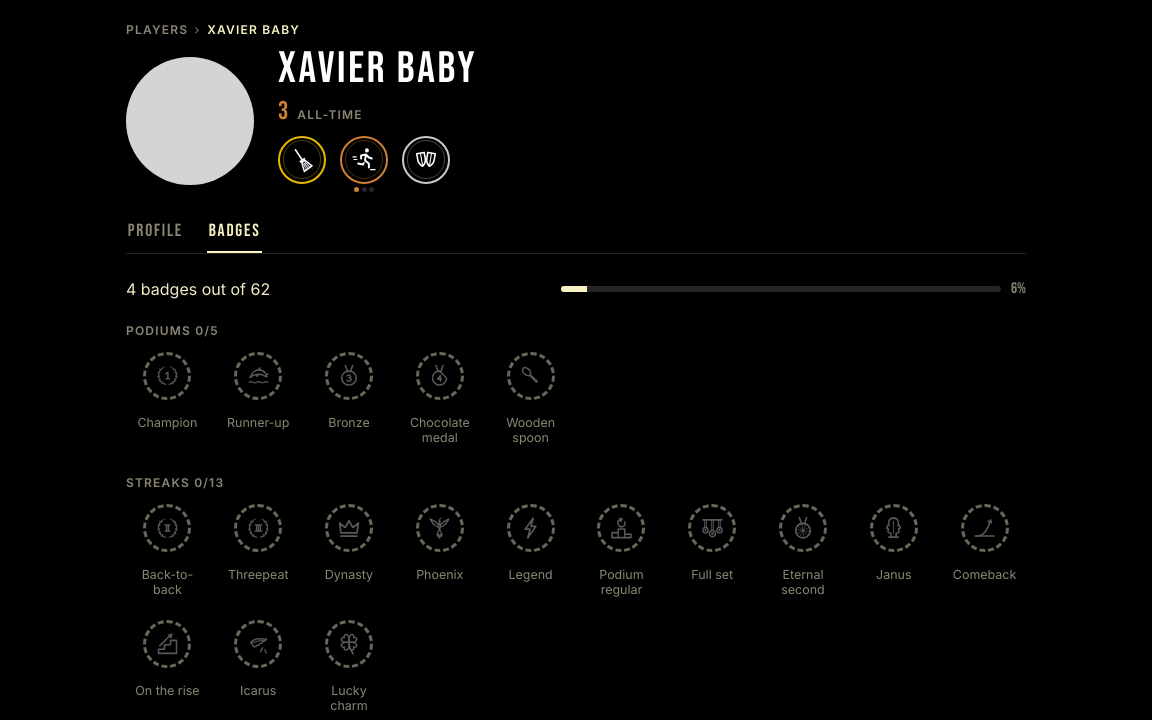
Test: player profile page › the sheet's progress › shows a locked slot's bar, its best run and an out-of-reach line
Click the button "Podium regular" at point(621, 551), box 580,500 -> 663,602
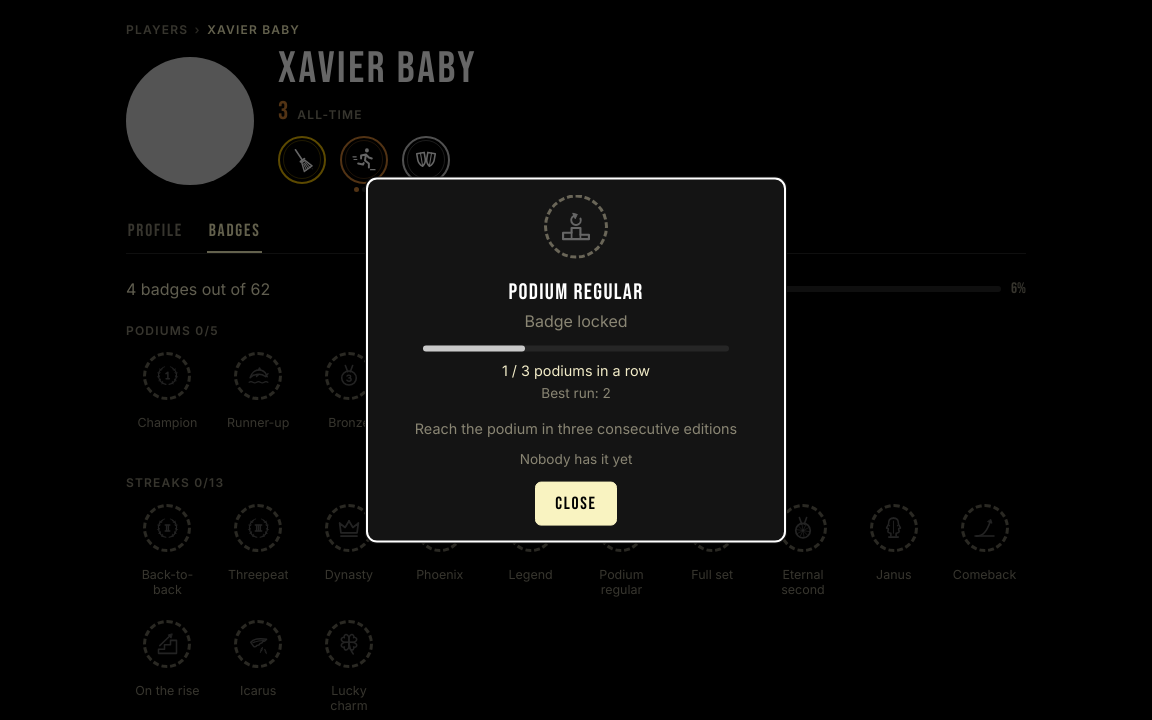
Expected: the text "1 / 3 podiums in a row" is shown, 502,362 -> 650,379
Expected: the dialog "Podium regular" shows "Best run: 2", 541,384 -> 611,400
Click the button "Close" at point(576, 503), box 535,481 -> 617,525
(page scrolled)
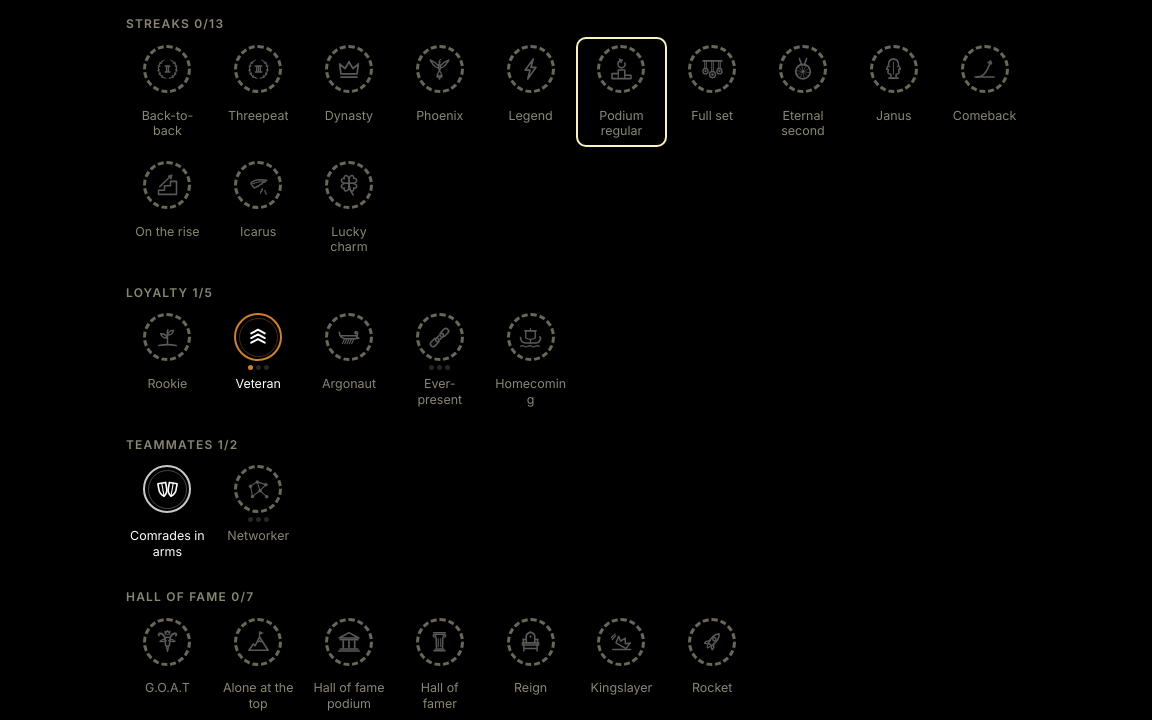
Click the button "Argonaut" at point(349, 360), box 308,309 -> 390,411
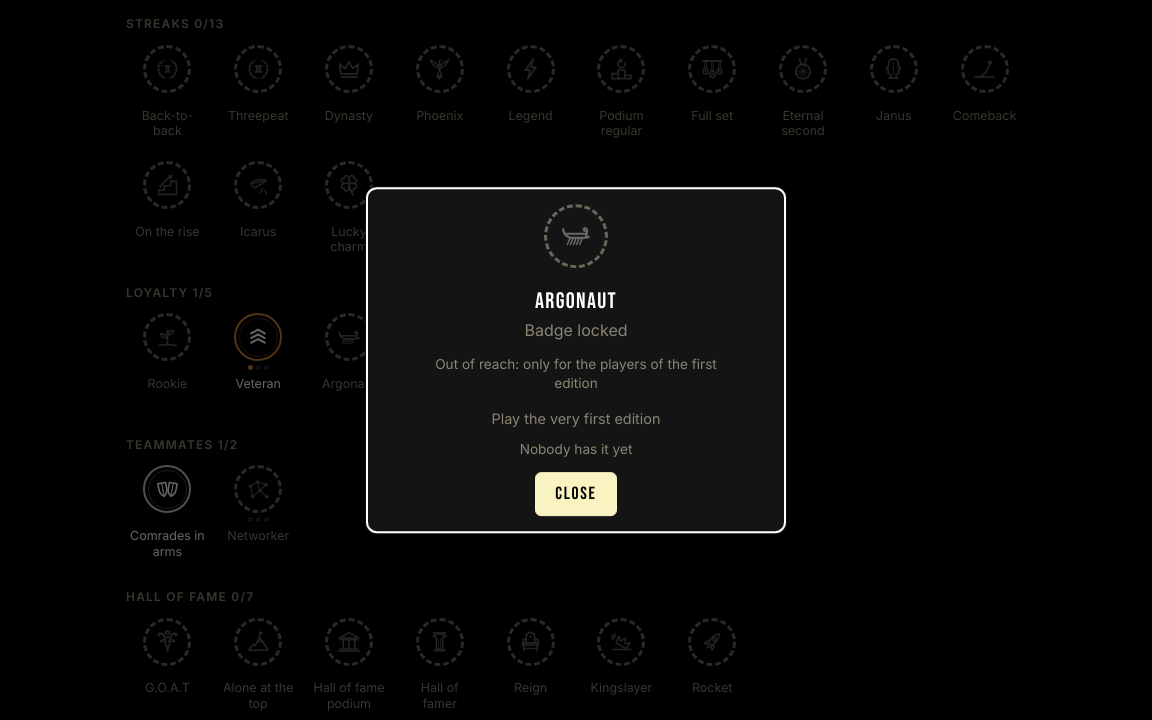
Expected: the dialog "Argonaut" shows "Out of reach: only for the players of the first edition", 435,356 -> 717,391
